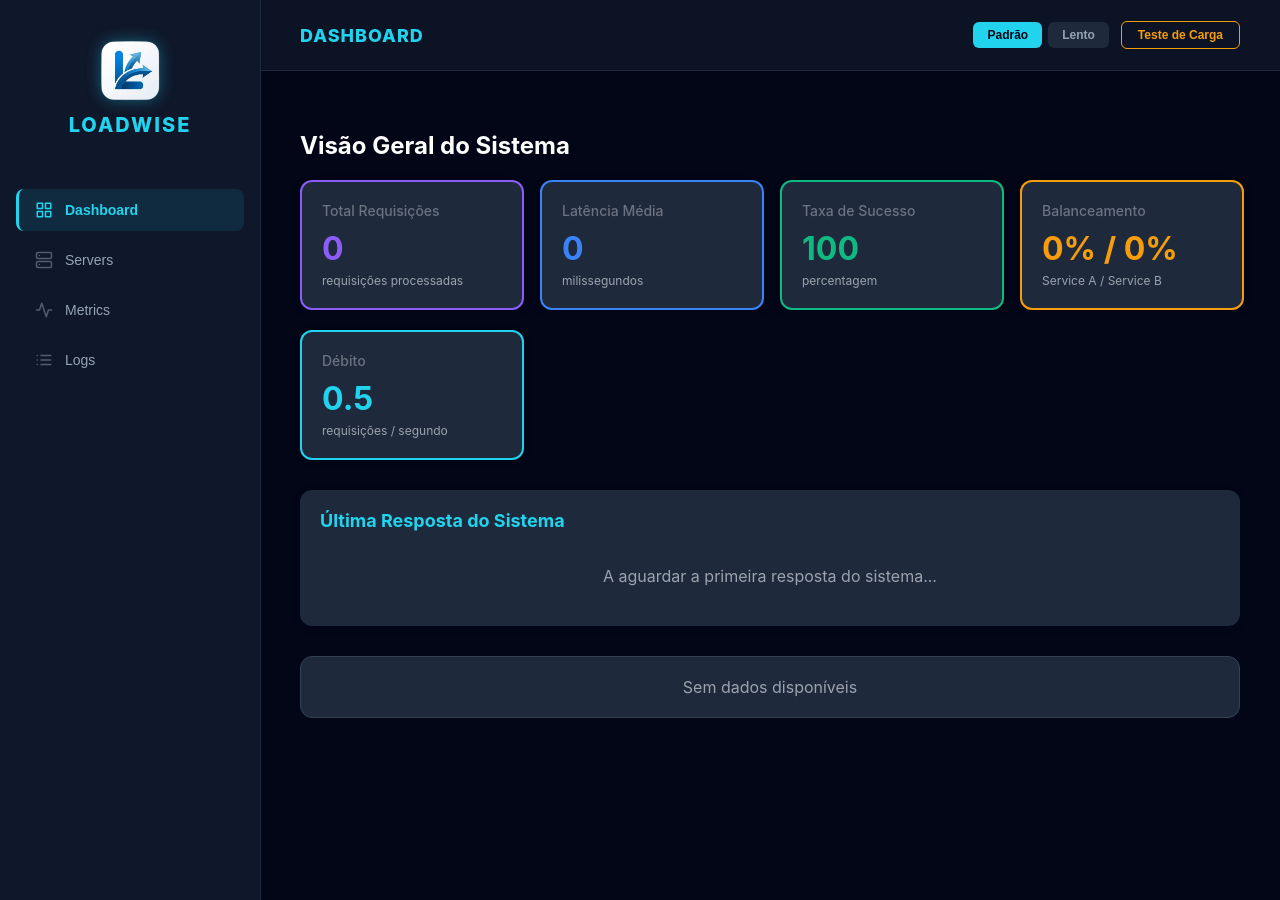
Test: navigates to Logs page on click
The width and height of the screenshot is (1280, 900).
Click the button "Logs" at [130, 360], box x1=16 y1=338 x2=244 y2=380
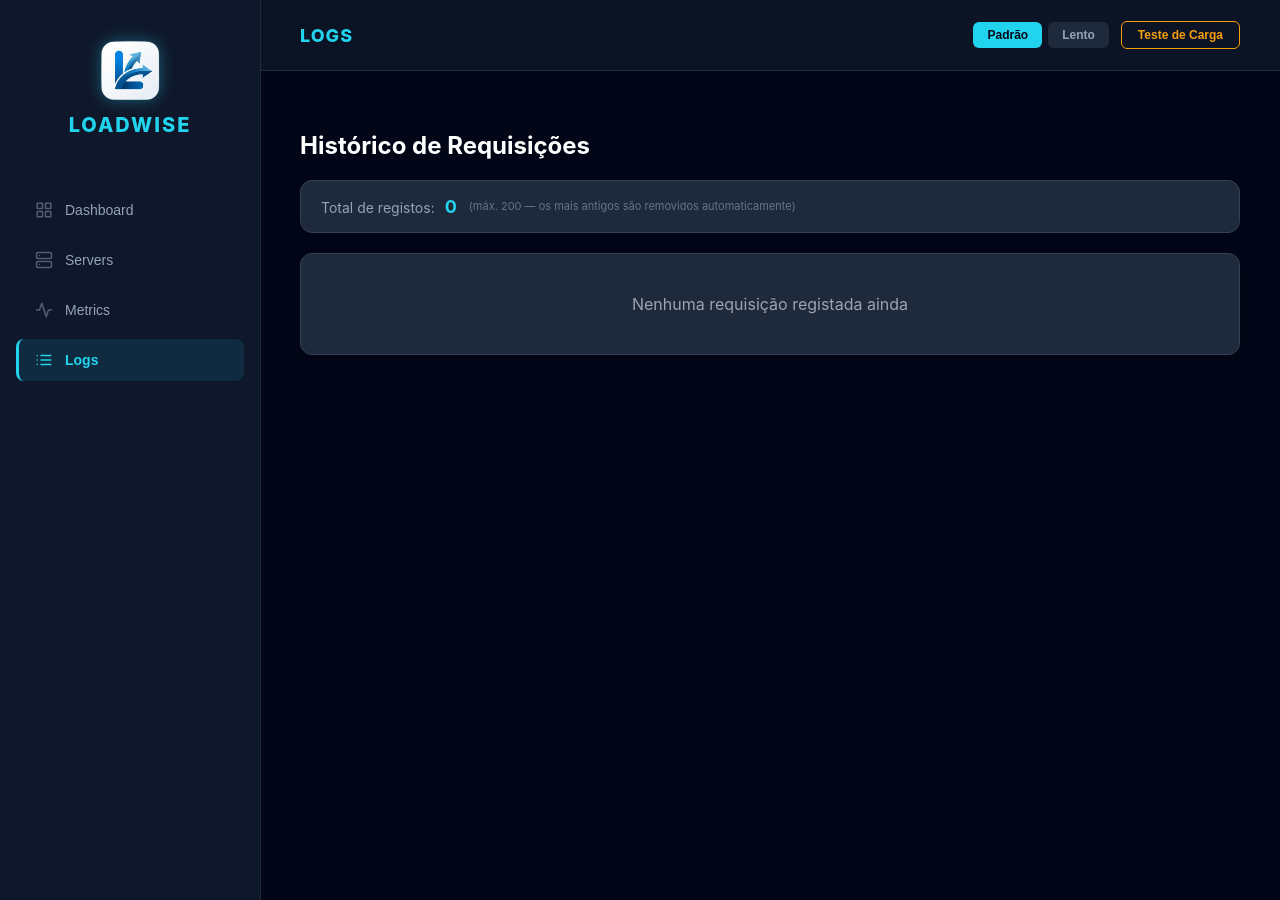
Expected: the heading "Histórico de Requisições" is shown, x1=300 y1=131 x2=590 y2=160
